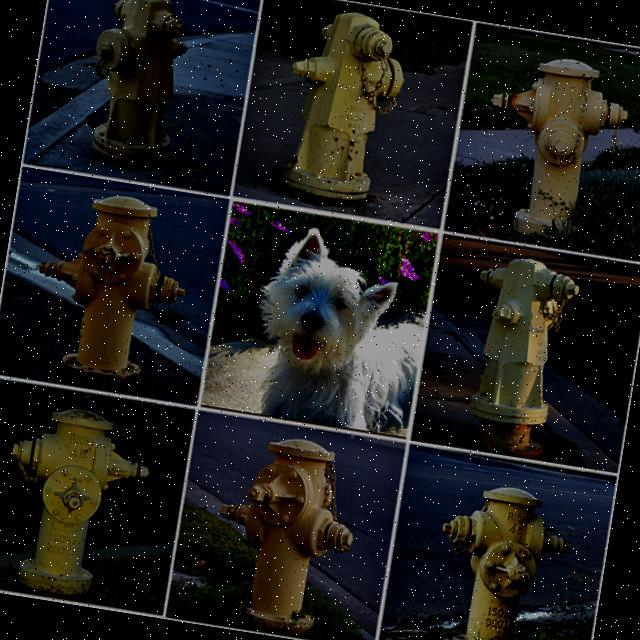fire_hydrant: (19, 180, 197, 392), (202, 426, 367, 640), (474, 46, 638, 250), (0, 398, 160, 605), (269, 0, 416, 211), (453, 250, 584, 462), (419, 472, 582, 640), (71, 0, 197, 175)
